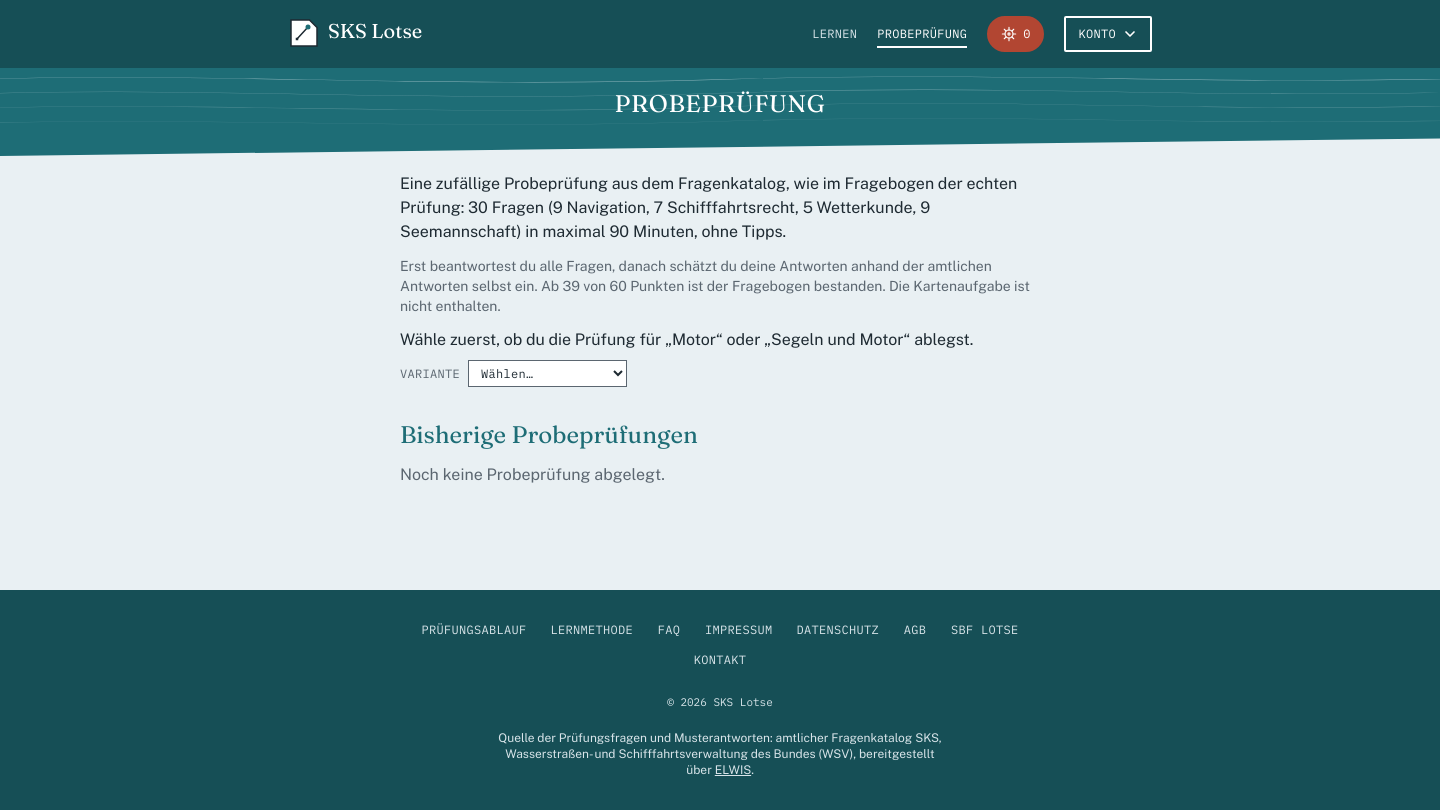
ExamPage › lets the variant be chosen right on the page, then offers the start
Select "Motor" in the dropdown labelled "Variante". click: x=548, y=374
box: [468,360,627,387]
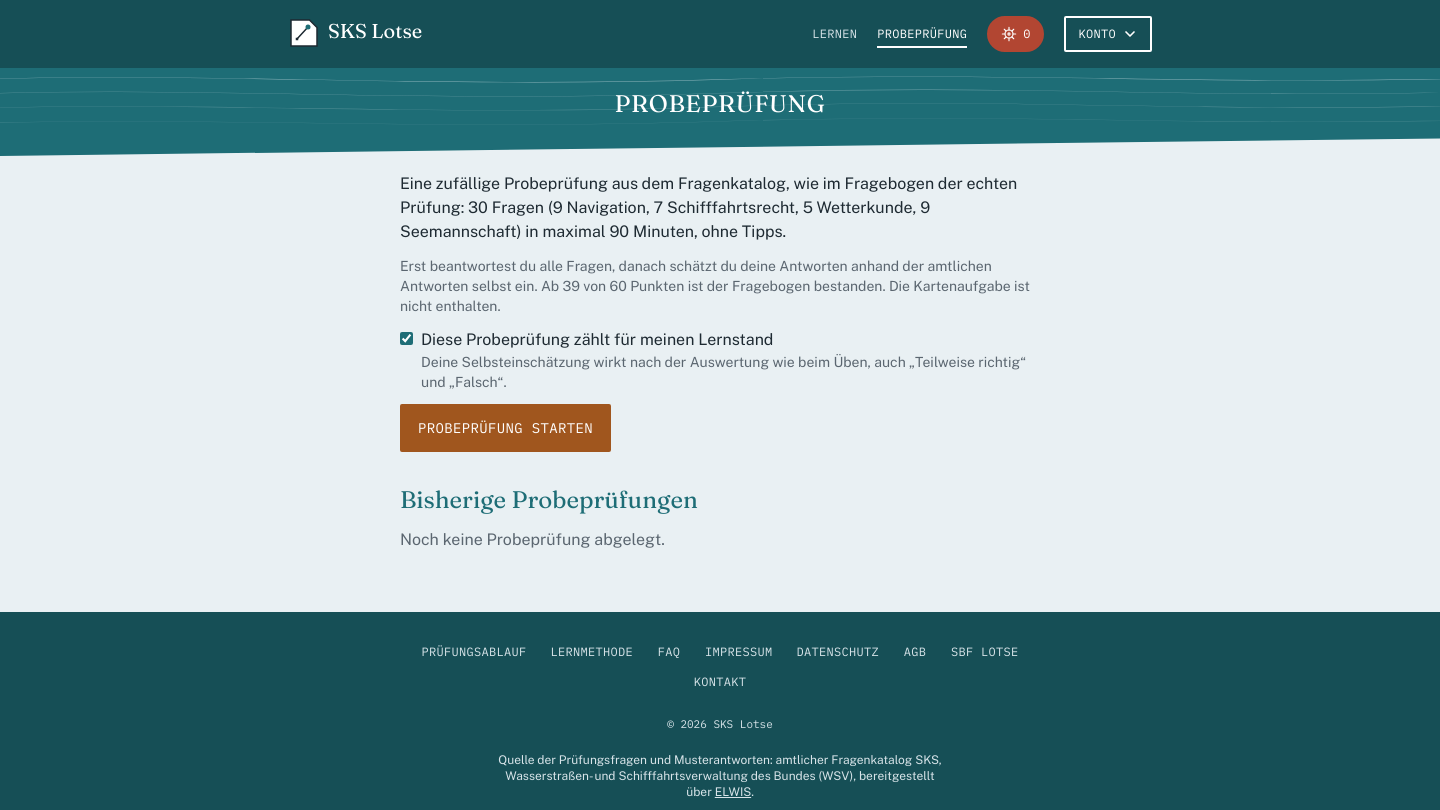
Expected: the button "Probeprüfung starten" is shown, [400,404,611,452]
